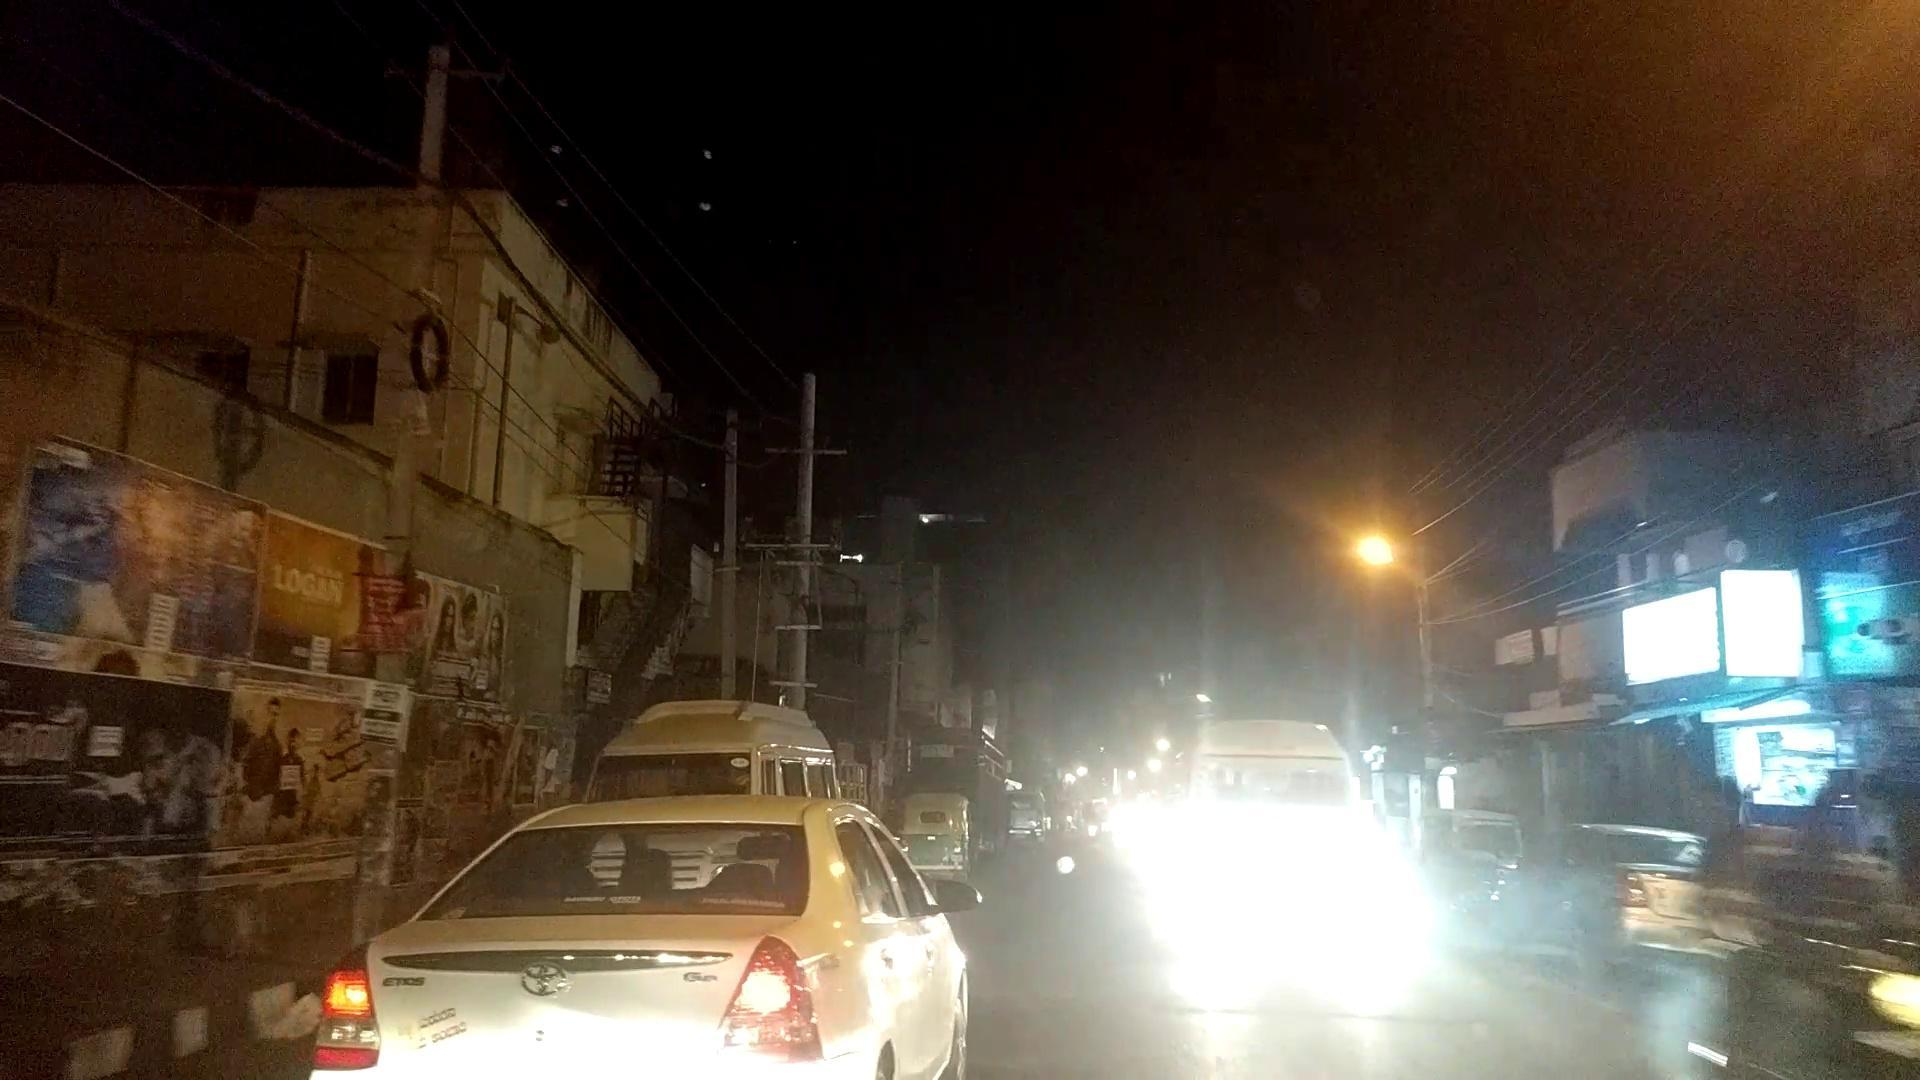on: (1110, 462, 1551, 667)
